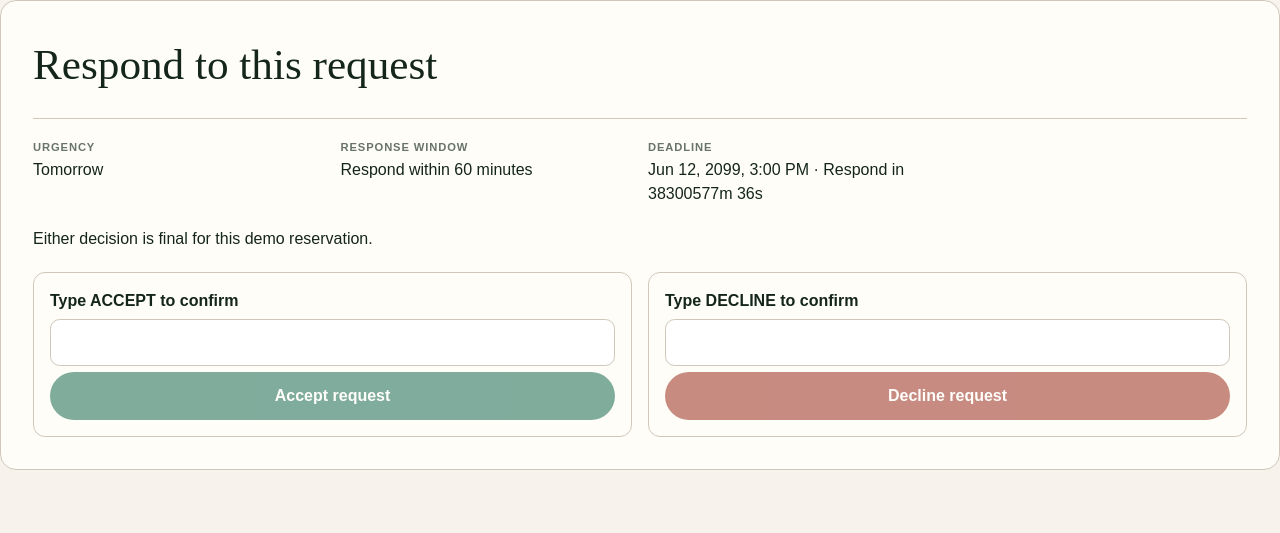
Test: ProviderDecisionPanel › refreshes and keeps decisions disabled when the server reports a stale conflict
Type "ACCEPT" into the field labelled "Type ACCEPT to confirm Accept request". click: (332, 342)
box: [50, 319, 615, 366]
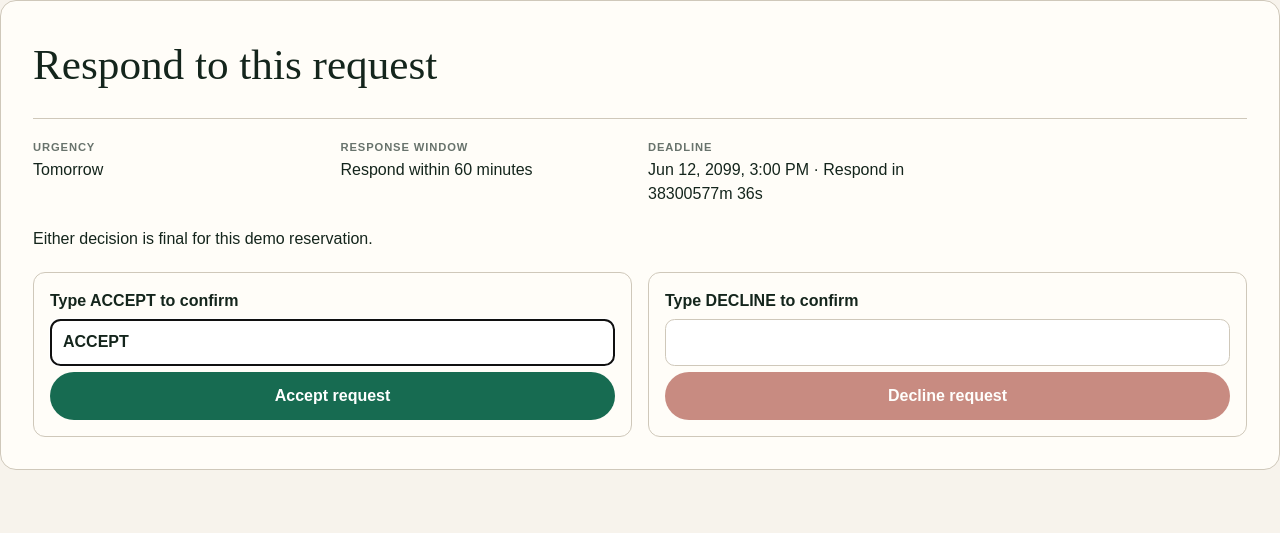
Click the button "Accept request". click: (332, 396)
box: [50, 372, 615, 420]
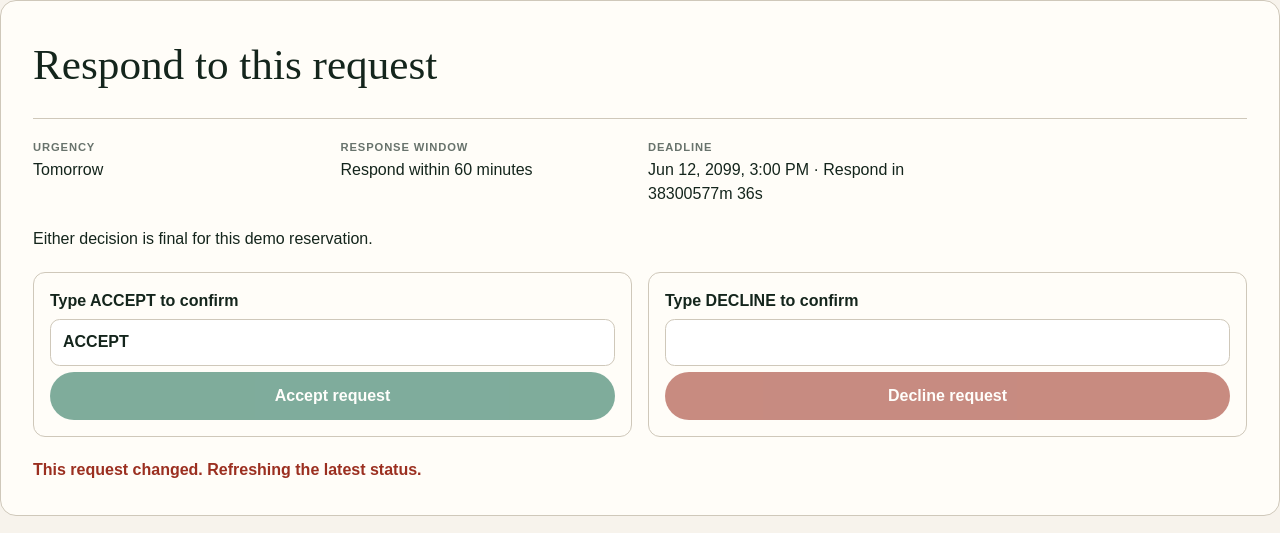
Expected: the button "Decline request" is disabled, [665, 372, 1230, 420]
Expected: the message reads "This request changed. Refreshing the latest status.", [33, 461, 422, 478]
Expected: the button "Accept request" is disabled, [50, 372, 615, 420]
